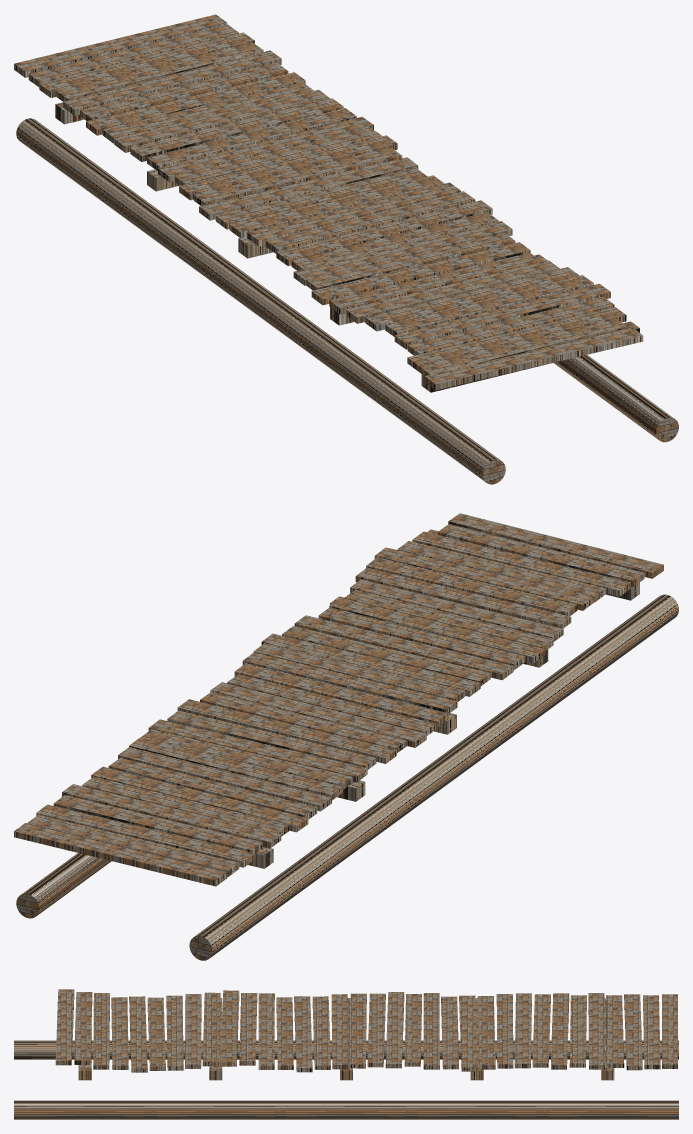
File: wooden_dock.glb
3 views of the same model, one above another, from view 1: azimuth 30°, elevation 25°; view 2: azimuth 150°, elevation 25°; view 3: azimuth 270°, elevation 25° (orthographic). The views are drawn at different scales.
Parts seen in each view (by area): view 1: geometry_0; view 2: geometry_0; view 3: geometry_0.
Boxes of the visible parts, left/top/right/bottom form: geometry_0: left=14, top=14, right=678, bottom=484; geometry_0: left=14, top=513, right=678, bottom=960; geometry_0: left=14, top=989, right=678, bottom=1119.
Size of the model in its own units: 3.15 by 1.11 by 11.2.
1 material, 1 textured.
